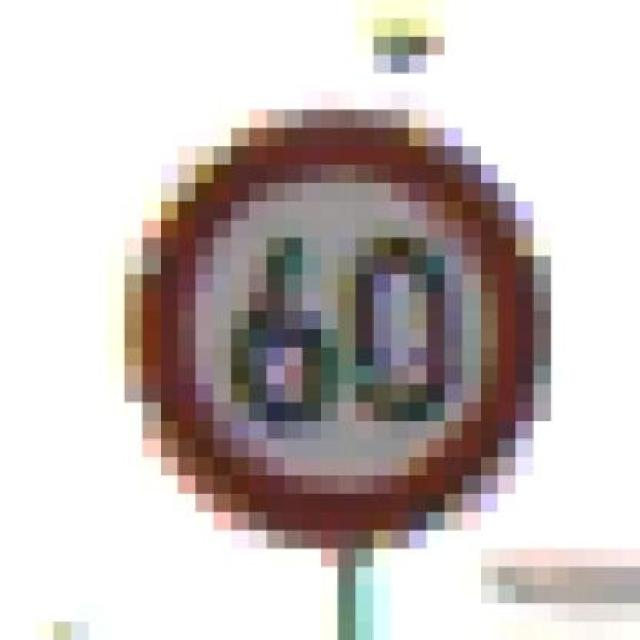forb_speed_over_60: (138, 125, 520, 532)
